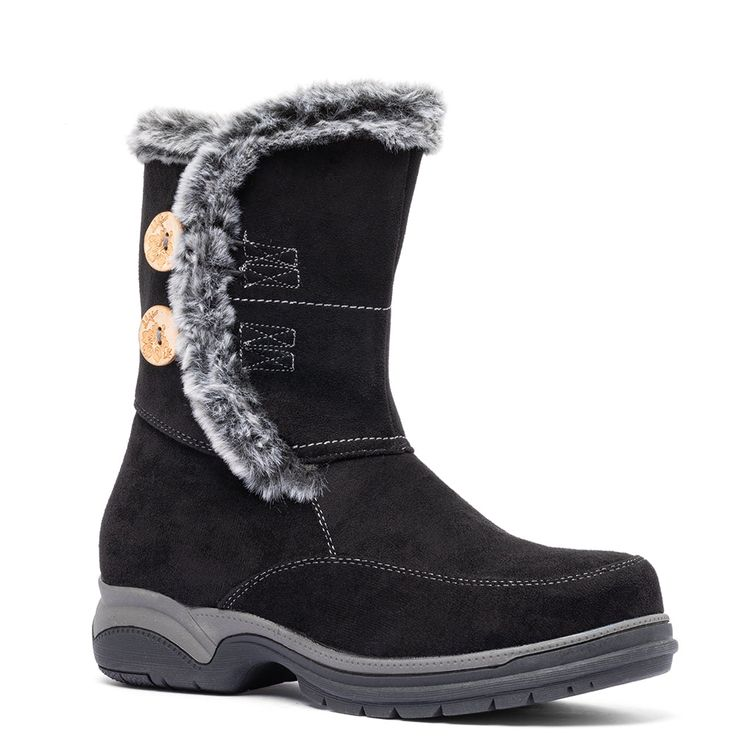gamuza: (96, 136, 664, 659)
